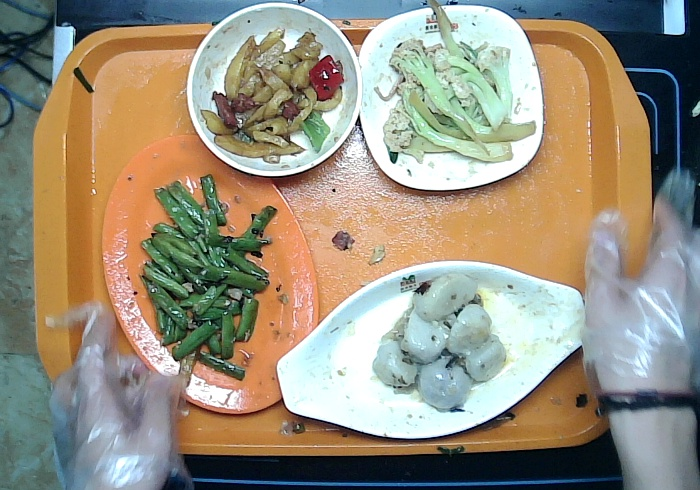NLDX-Bai_Se_Xiao_Fang_Die: (354, 1, 552, 192)
NLDX-Fan_Wan: (185, 1, 368, 185)
NLDX-Ju_Se_Pan: (99, 128, 329, 419)
NLDX-Yu_Pan: (271, 253, 598, 443)
